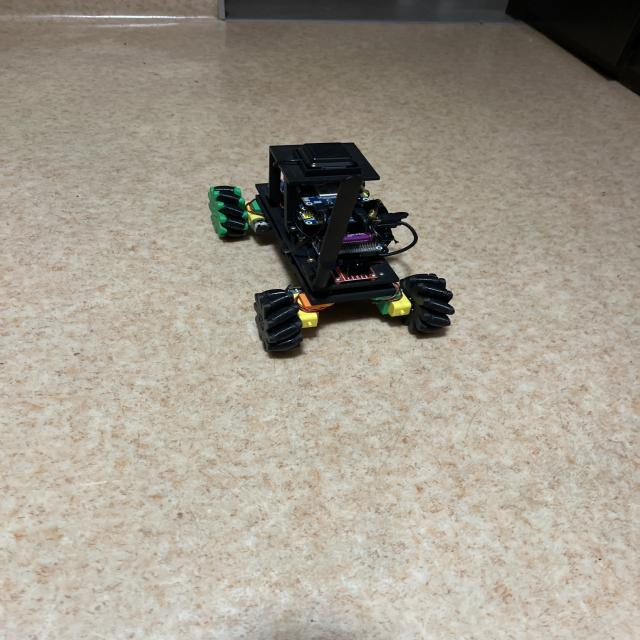robot: (209, 142, 454, 352)
